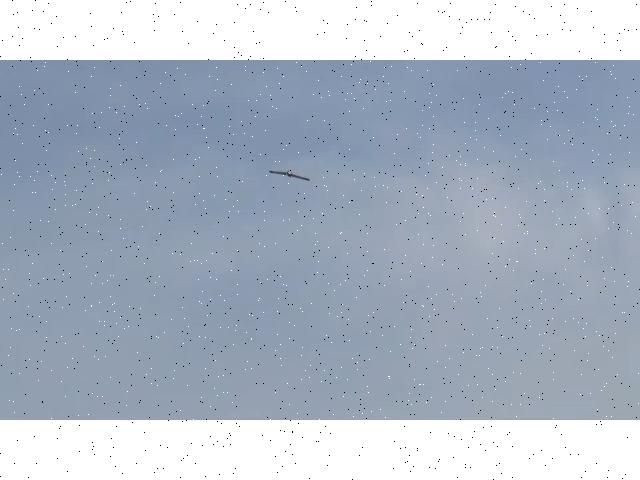Anti-Drone: (268, 171, 310, 181)
